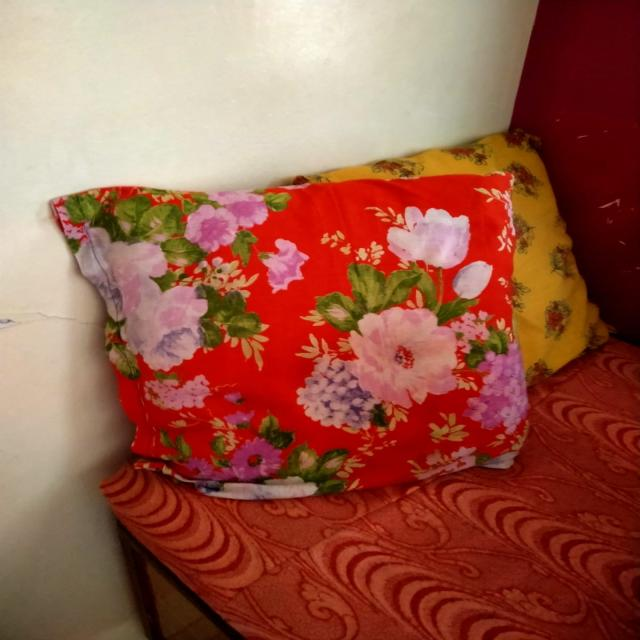Pillow: (46, 172, 564, 498)
